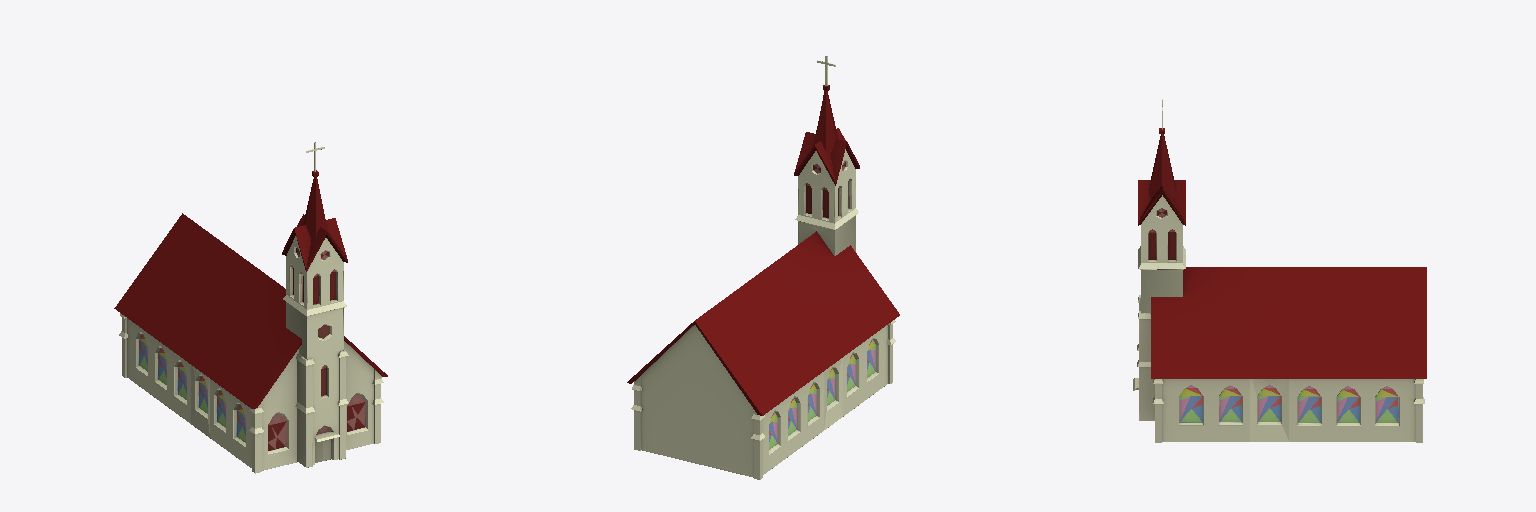
The picture shows the model from 3 angles: view 1: azimuth 30°, elevation 25°; view 2: azimuth 150°, elevation 25°; view 3: azimuth 270°, elevation 25°; orthographic projection.
Parts seen in each view (by area): view 1: Church_mesh; view 2: Church_mesh; view 3: Church_mesh.
Part boxes in pixels (left/top/right/bottom): Church_mesh: left=114, top=142, right=387, bottom=473; Church_mesh: left=627, top=56, right=899, bottom=479; Church_mesh: left=1133, top=99, right=1426, bottom=442.
Size of the model in its own units: 13.1 by 28.76 by 24.45.
1 materials, 1 textured.